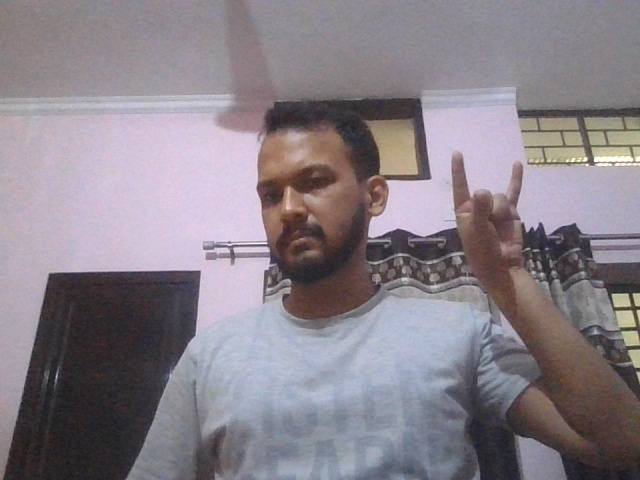iloveyou: (448, 151, 525, 265)
